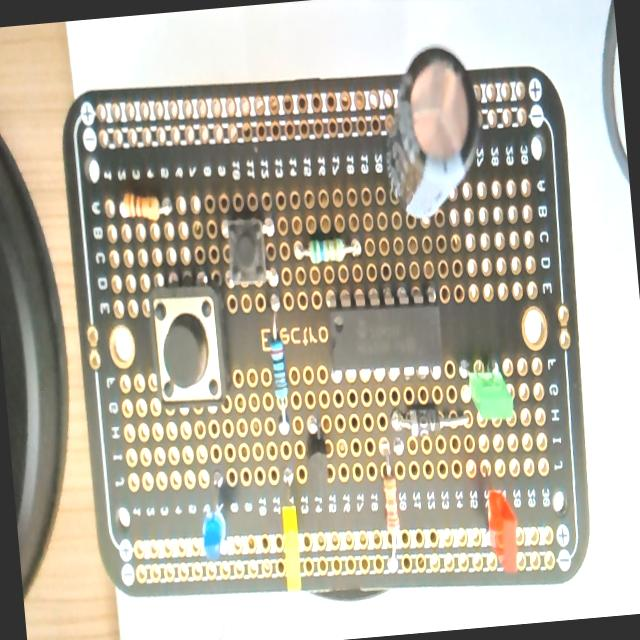Electrolytic capacitor: (370, 29, 495, 234)
IC: (317, 286, 455, 390)
diode: (388, 402, 472, 436)
led: (478, 478, 526, 572), (464, 352, 514, 428), (274, 466, 304, 592), (197, 472, 230, 559)
resistor: (110, 177, 174, 233), (376, 448, 404, 572), (265, 307, 291, 432), (294, 236, 359, 266)
switch: (148, 282, 228, 408), (217, 208, 284, 294)
transistor: (300, 424, 337, 500)
